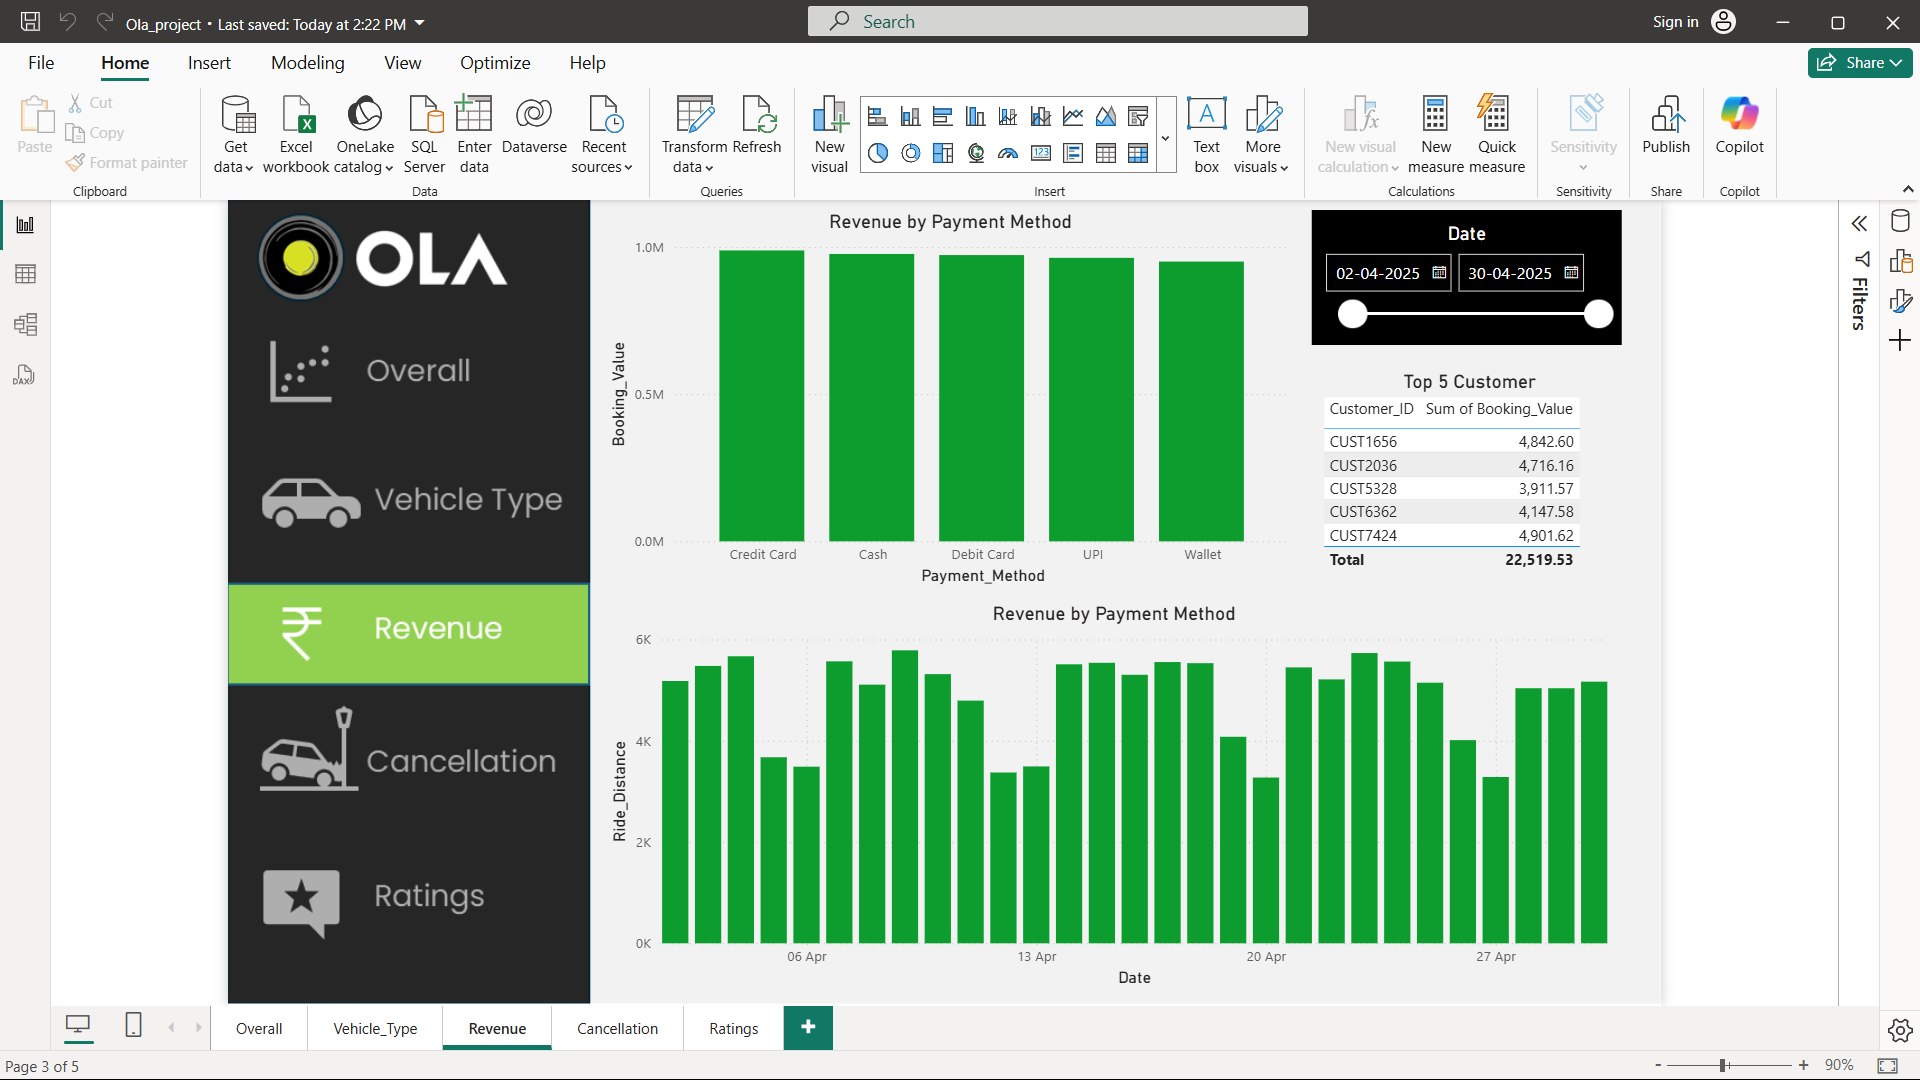

The dashboard page shown, as its layout file describes it:
{"tool":"powerbi","page":{"name":"Revenue","canvas":[1280,720],"ordinal":2},"visuals":[{"type":"actionButton","box":[0,110.9,324.3,91],"z":0},{"type":"actionButton","box":[0,219,324.3,103.8],"z":1000},{"type":"actionButton","box":[0,322.8,324.3,103.8],"z":2000},{"type":"actionButton","box":[0,426.7,324.3,128],"z":3000},{"type":"actionButton","box":[0,554.7,324.3,165],"z":4000},{"type":"columnChart","title":"Revenue by Payment Method","fields":{"Y":["Sum(ahmedabad_booking_data.Booking_Value)"],"Category":["ahmedabad_booking_data.Payment_Method"]},"box":[335.7,8.6,618.6,340],"z":5000},{"type":"columnChart","title":"Revenue by Payment Method","fields":{"Y":["Sum(ahmedabad_booking_data.Ride_Distance)"],"Category":["ahmedabad_booking_data.Date"]},"box":[337.1,360,908.6,348.6],"z":6000},{"type":"slicer","title":"Date","fields":{"Values":["ahmedabad_booking_data.Date"]},"box":[968.6,8.6,277.1,120],"z":7000},{"type":"tableEx","title":"Top 5 Customer","fields":{"Values":["ahmedabad_booking_data.Customer_ID","Sum(ahmedabad_booking_data.Booking_Value)"]},"box":[968.6,141.4,277.1,207.1],"z":8000}]}

Visuals, with their boxes on the page's 1280x720 design canvas (x1, y1, x2, y2). These are canvas units, not pixel positions in the 1920x1080 screenshot, which may show the page scaled, cropped or inside an application window:
actionButton: rect(0, 111, 324, 202)
actionButton: rect(0, 219, 324, 323)
actionButton: rect(0, 323, 324, 427)
actionButton: rect(0, 427, 324, 555)
actionButton: rect(0, 555, 324, 720)
"Revenue by Payment Method" columnChart: rect(336, 9, 954, 349)
"Revenue by Payment Method" columnChart: rect(337, 360, 1246, 709)
"Date" slicer: rect(969, 9, 1246, 129)
"Top 5 Customer" tableEx: rect(969, 141, 1246, 348)
